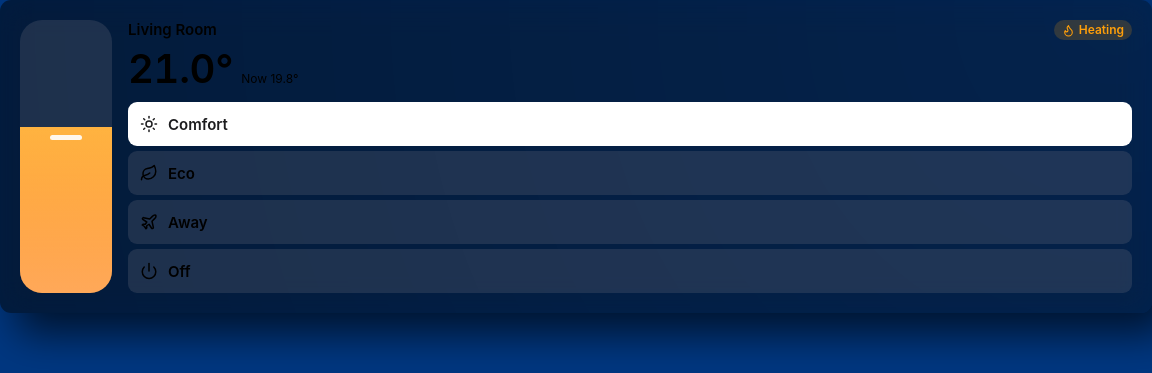
Scenario: Thermostat card › previews while dragging the slider and sends the target once on release
Expected: the text "21.0°" is shown, [128,46,233,92]
Press the mouse on the slider at point(66, 156), box [20,20,112,293]
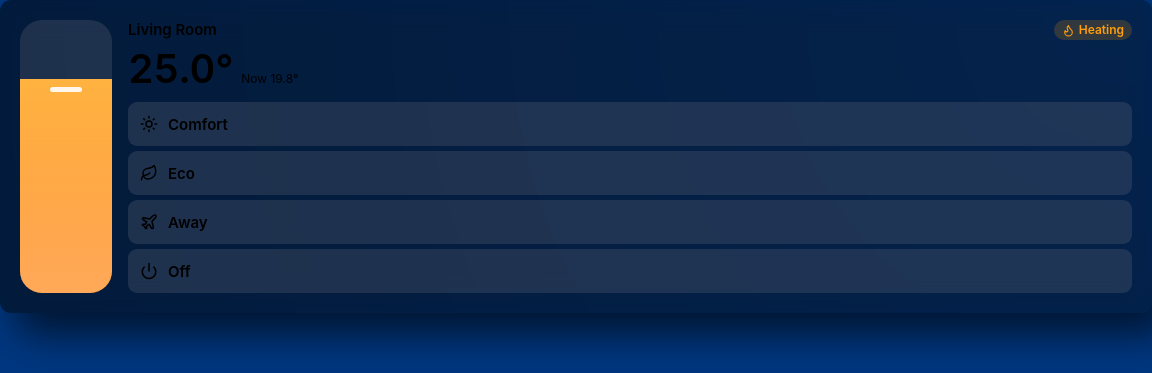
Expected: the text "25.0°" is shown, [128,46,233,92]
